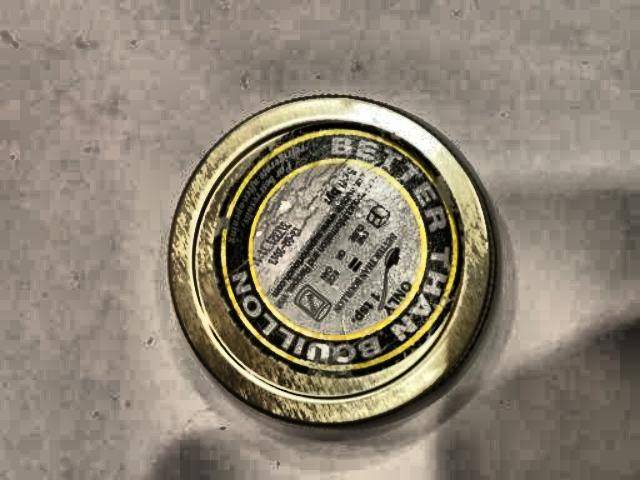Almennt: (147, 73, 522, 439)
